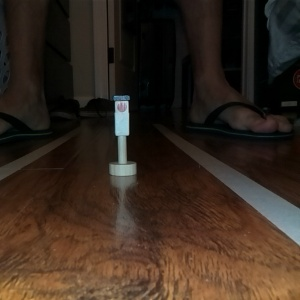traffic light red: (107, 92, 138, 178)
